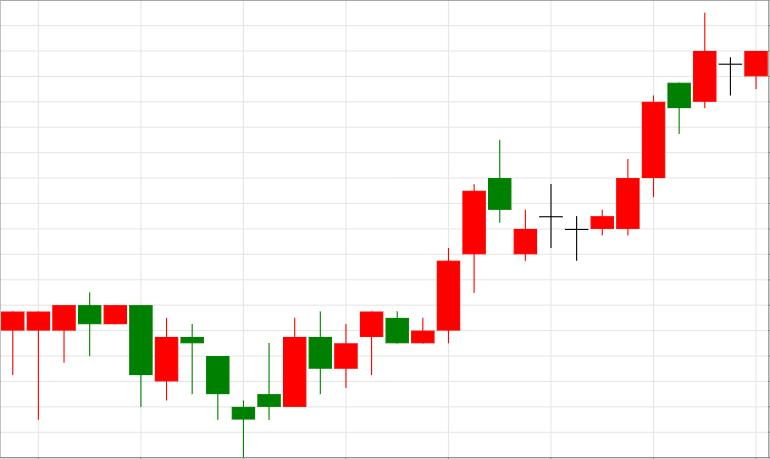shooting_star_fall: (335, 139, 511, 389)
